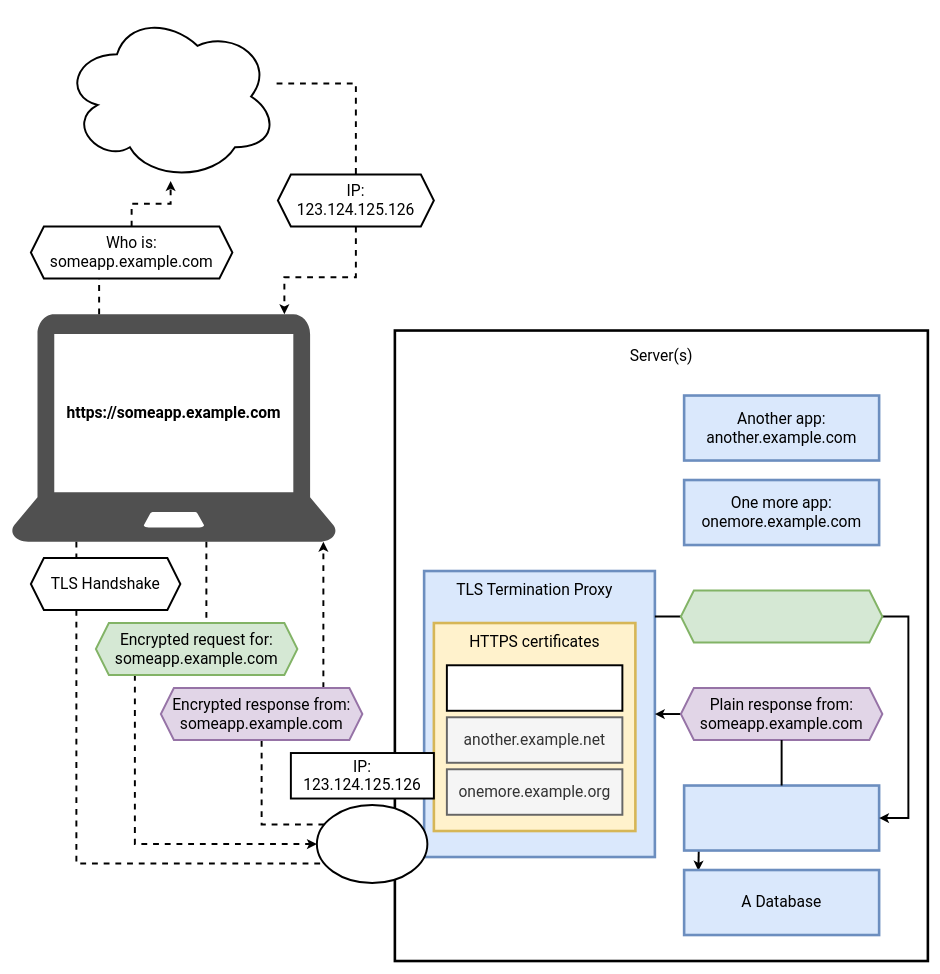
This 940x974 diagram has some shape labels left out. Here are the shapes that lost their labels. From the top down, the centre of each, then its label:
At pixel 170 96: "DNS Servers".
At pixel 781 616: "Decrypted request for: someapp.example.com".
At pixel 534 687: "someapp.example.com".
At pixel 781 818: "FastAPI app for: someapp.example.com".
At pixel 372 844: "Port 443 (HTTPS)".
